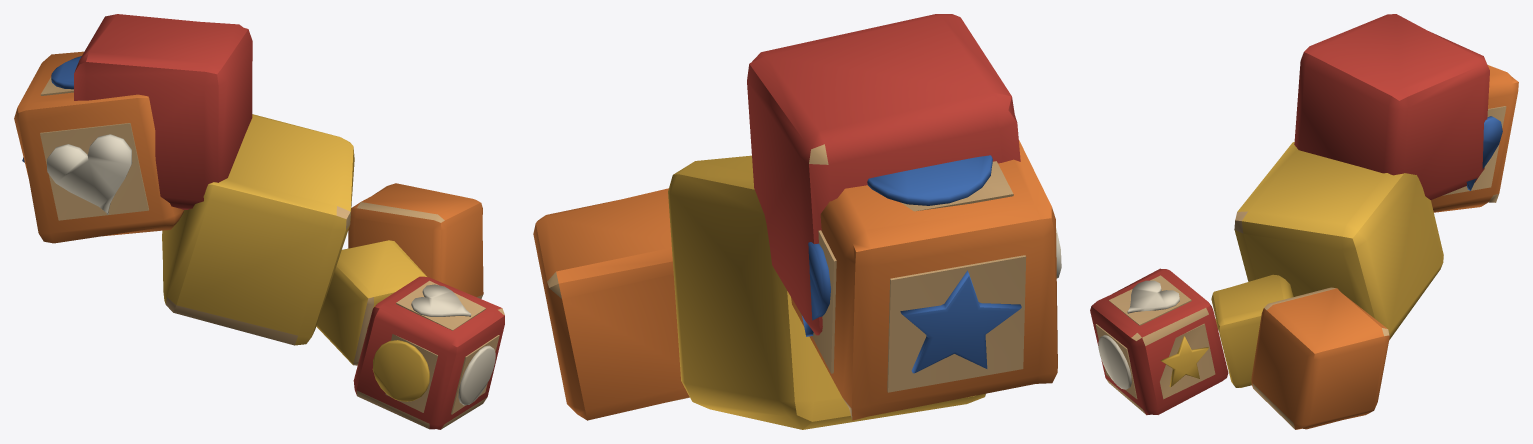
The model's file is den_toy_pile_lod1.glb.
3 views of the same model, side by side, from view 1: azimuth 30°, elevation 25°; view 2: azimuth 150°, elevation 25°; view 3: azimuth 270°, elevation 25° (orthographic). The views are drawn at different scales.
Visible parts, largest first — view 1: den_toy_pile.001; view 2: den_toy_pile.001; view 3: den_toy_pile.001.
Part boxes in pixels (x1=…): den_toy_pile.001: x1=14, y1=14, x2=504, y2=429; den_toy_pile.001: x1=533, y1=14, x2=1061, y2=429; den_toy_pile.001: x1=1090, y1=14, x2=1518, y2=429.
Size of the model in its own units: 6.53 by 4.87 by 6.57.
